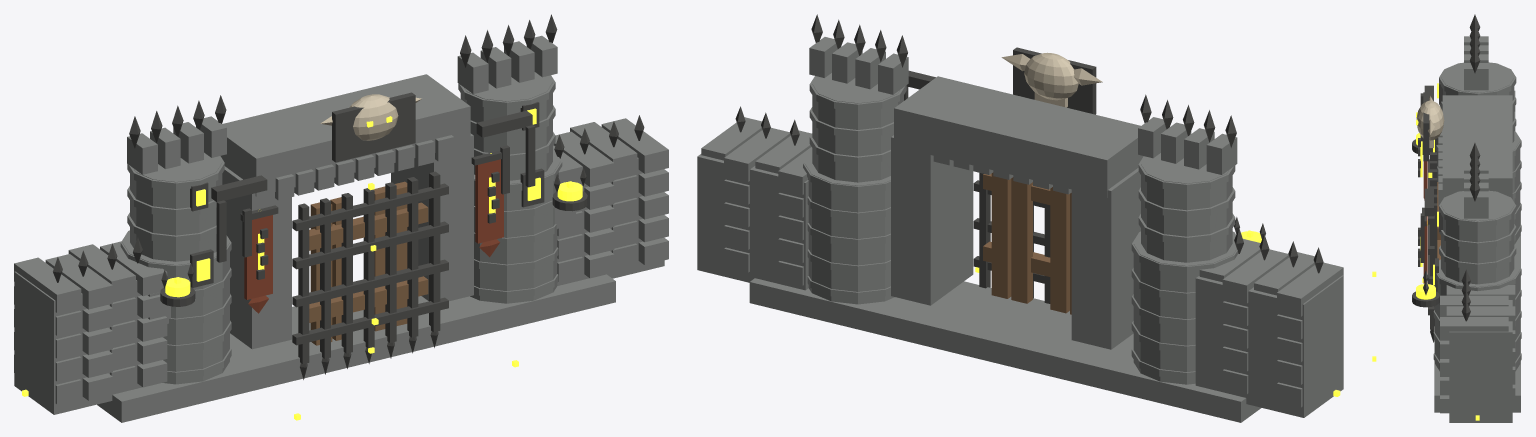
The model's file is SM_OGR_CairnBattleGate_A01.fbx.
3 renders of one model, left to right at view 1: azimuth 30°, elevation 25°; view 2: azimuth 150°, elevation 25°; view 3: azimuth 270°, elevation 25°, orthographic. The views are drawn at different scales.
Parts seen in each view (by area): view 1: Base_CairnStone_Platform, Arch_CairnStone_TopBeam, Wall_Left_CairnStone_Block, Arch_CairnStone_LeftPier, Arch_CairnStone_RightPier, Tower_Left_CairnCore_Upper, Tower_Right_CairnCore_Lower, Tower_Left_CairnCore_Lower, Tower_Right_CairnCore_Upper, Crest_Iron_BackPlate, Banner_Right_Cloth_RedDrop, Wall_Left_CourseBlock_310_01 (+60 smaller); view 2: Base_CairnStone_Platform, Arch_CairnStone_TopBeam, Wall_Left_CairnStone_Block, Arch_CairnStone_RightPier, Arch_CairnStone_LeftPier, Wall_Right_CairnStone_Block, Tower_Right_CairnCore_Lower, Tower_Left_CairnCore_Upper, Tower_Right_CairnCore_Upper, Tower_Left_CairnCore_Lower, Gate_Timber_DoubleDoorPlank_03, Gate_Timber_DoubleDoorPlank_04 (+32 smaller); view 3: Arch_CairnStone_TopBeam, Wall_Right_CairnStone_Block, Tower_Right_CairnCore_Upper, Tower_Left_CairnCore_Upper, Wall_Right_CourseBlock_310_04, Tower_Right_CairnCore_Lower, Wall_Right_CourseBlock_310_02, Wall_Right_CourseBlock_310_03, Base_CairnStone_Platform, Crest_Skull_Bone_HeavyBrow, Tower_Right_StoneCourse_570, Tower_Left_Crenel_04 (+26 smaller).
Part boxes in pixels (x1,y1,x2,y2): Base_CairnStone_Platform: (97,274,615,422); Arch_CairnStone_TopBeam: (220,74,470,196); Wall_Left_CairnStone_Block: (14,271,142,414); Arch_CairnStone_LeftPier: (222,166,291,349); Arch_CairnStone_RightPier: (391,133,473,301); Tower_Left_CairnCore_Upper: (130,152,222,261); Tower_Right_CairnCore_Lower: (470,150,560,303); Tower_Left_CairnCore_Lower: (122,231,229,384); Tower_Right_CairnCore_Upper: (460,72,552,180); Crest_Iron_BackPlate: (332,92,415,162); Banner_Right_Cloth_RedDrop: (475,159,503,243); Wall_Left_CourseBlock_310_01: (14,257,81,312); Base_CairnStone_Platform: (749,278,1261,422); Arch_CairnStone_TopBeam: (894,76,1143,197); Wall_Left_CairnStone_Block: (1195,275,1343,417); Arch_CairnStone_RightPier: (891,135,973,305); Arch_CairnStone_LeftPier: (1071,168,1140,349); Wall_Right_CairnStone_Block: (697,154,808,290); Tower_Right_CairnCore_Lower: (804,152,894,304); Tower_Left_CairnCore_Upper: (1141,153,1232,262); Tower_Right_CairnCore_Upper: (812,73,903,182); Tower_Left_CairnCore_Lower: (1133,232,1236,384); Gate_Timber_DoubleDoorPlank_03: (1011,177,1032,303); Gate_Timber_DoubleDoorPlank_04: (991,172,1011,298); Arch_CairnStone_TopBeam: (1442,95,1512,199); Wall_Right_CairnStone_Block: (1449,300,1512,422); Tower_Right_CairnCore_Upper: (1441,191,1514,284); Tower_Left_CairnCore_Upper: (1441,63,1514,142); Wall_Right_CourseBlock_310_04: (1440,317,1508,340); Tower_Right_CairnCore_Lower: (1435,260,1520,371); Wall_Right_CourseBlock_310_02: (1440,295,1508,316); Wall_Right_CourseBlock_310_03: (1446,306,1515,330); Base_CairnStone_Platform: (1434,211,1520,412); Crest_Skull_Bone_HeavyBrow: (1416,100,1444,140); Tower_Right_StoneCourse_570: (1439,190,1516,227); Tower_Left_Crenel_04: (1464,63,1488,90).
Size of what is drawn, in the model's own units: 44800 by 175200 by 74000.
